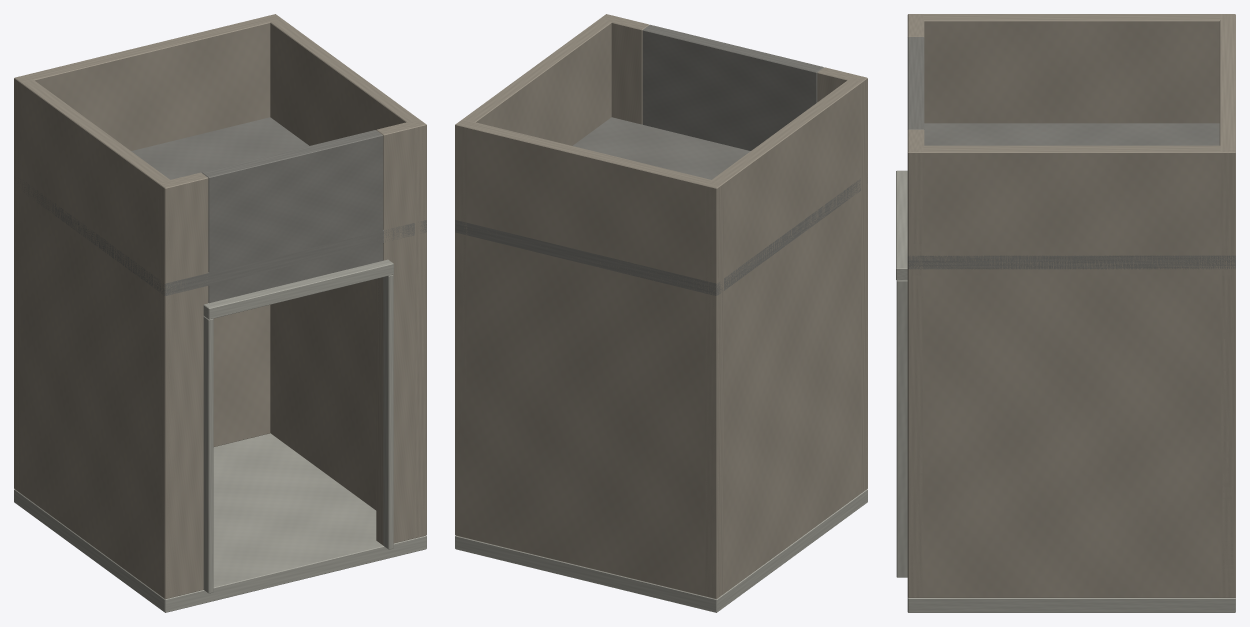
Rendered from I13_ServiceAlcove_visual.glb.
3 views of the same model, side by side, from view 1: azimuth 30°, elevation 25°; view 2: azimuth 150°, elevation 25°; view 3: azimuth 270°, elevation 25° (orthographic). The views are drawn at different scales.
Visible parts, largest first — view 1: I13_ServiceAlcove__VIS_shell, I13_ServiceAlcove__VIS_roof; view 2: I13_ServiceAlcove__VIS_shell, I13_ServiceAlcove__VIS_roof; view 3: I13_ServiceAlcove__VIS_shell, I13_ServiceAlcove__VIS_roof.
Part boxes in pixels (box(x1,y1,x2,y2)): I13_ServiceAlcove__VIS_shell: box(14, 14, 426, 612); I13_ServiceAlcove__VIS_roof: box(18, 117, 426, 295); I13_ServiceAlcove__VIS_shell: box(455, 14, 867, 612); I13_ServiceAlcove__VIS_roof: box(455, 117, 867, 295); I13_ServiceAlcove__VIS_shell: box(896, 14, 1235, 612); I13_ServiceAlcove__VIS_roof: box(907, 123, 1235, 269).
Size of the model in its own units: 12 by 18.6 by 12.43.
1 material, 1 textured.
